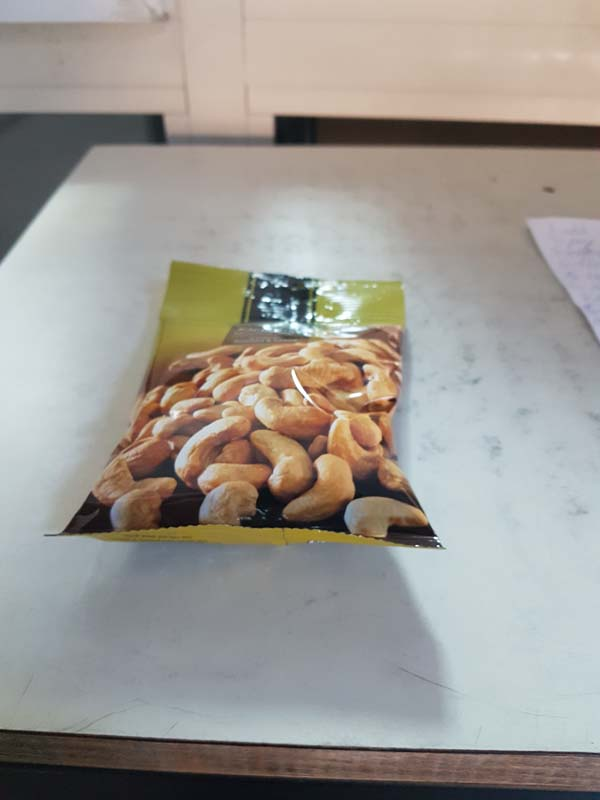kajupeyman: (43, 256, 455, 560)
